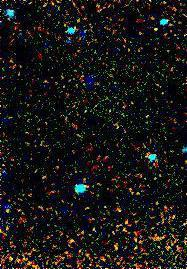star: (144, 15, 174, 45)
